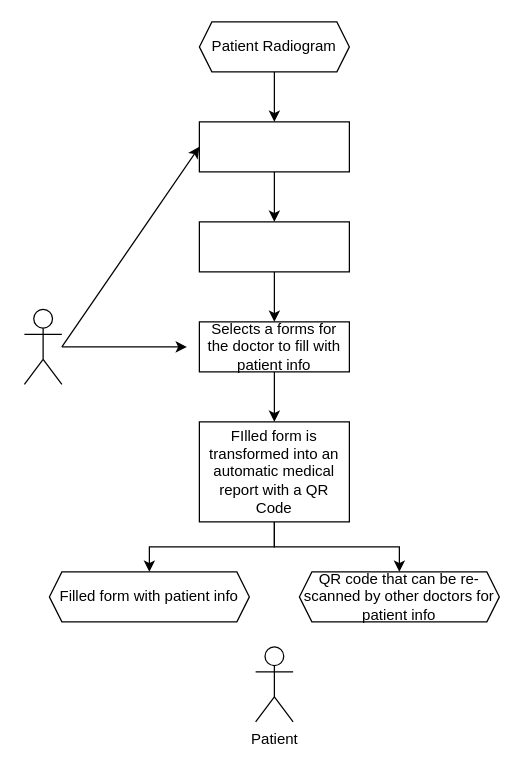
Image size: 521x770. Some labels were removed from this diagram. Here are the shapes that lost their labels. From the top down, the centre of each, then its label:
the point at 273,146: Doctor inputs patient radiogram
the point at 273,246: Program detects what type of radiogram it is
the point at 42,346: Doctor
